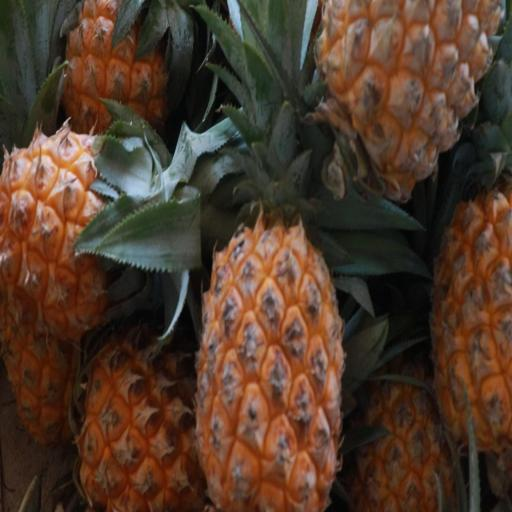Pineapple - v8 v1: (190, 193, 346, 512), (313, 0, 508, 225), (0, 130, 146, 358), (70, 310, 211, 510), (425, 138, 512, 462), (53, 0, 174, 191)
